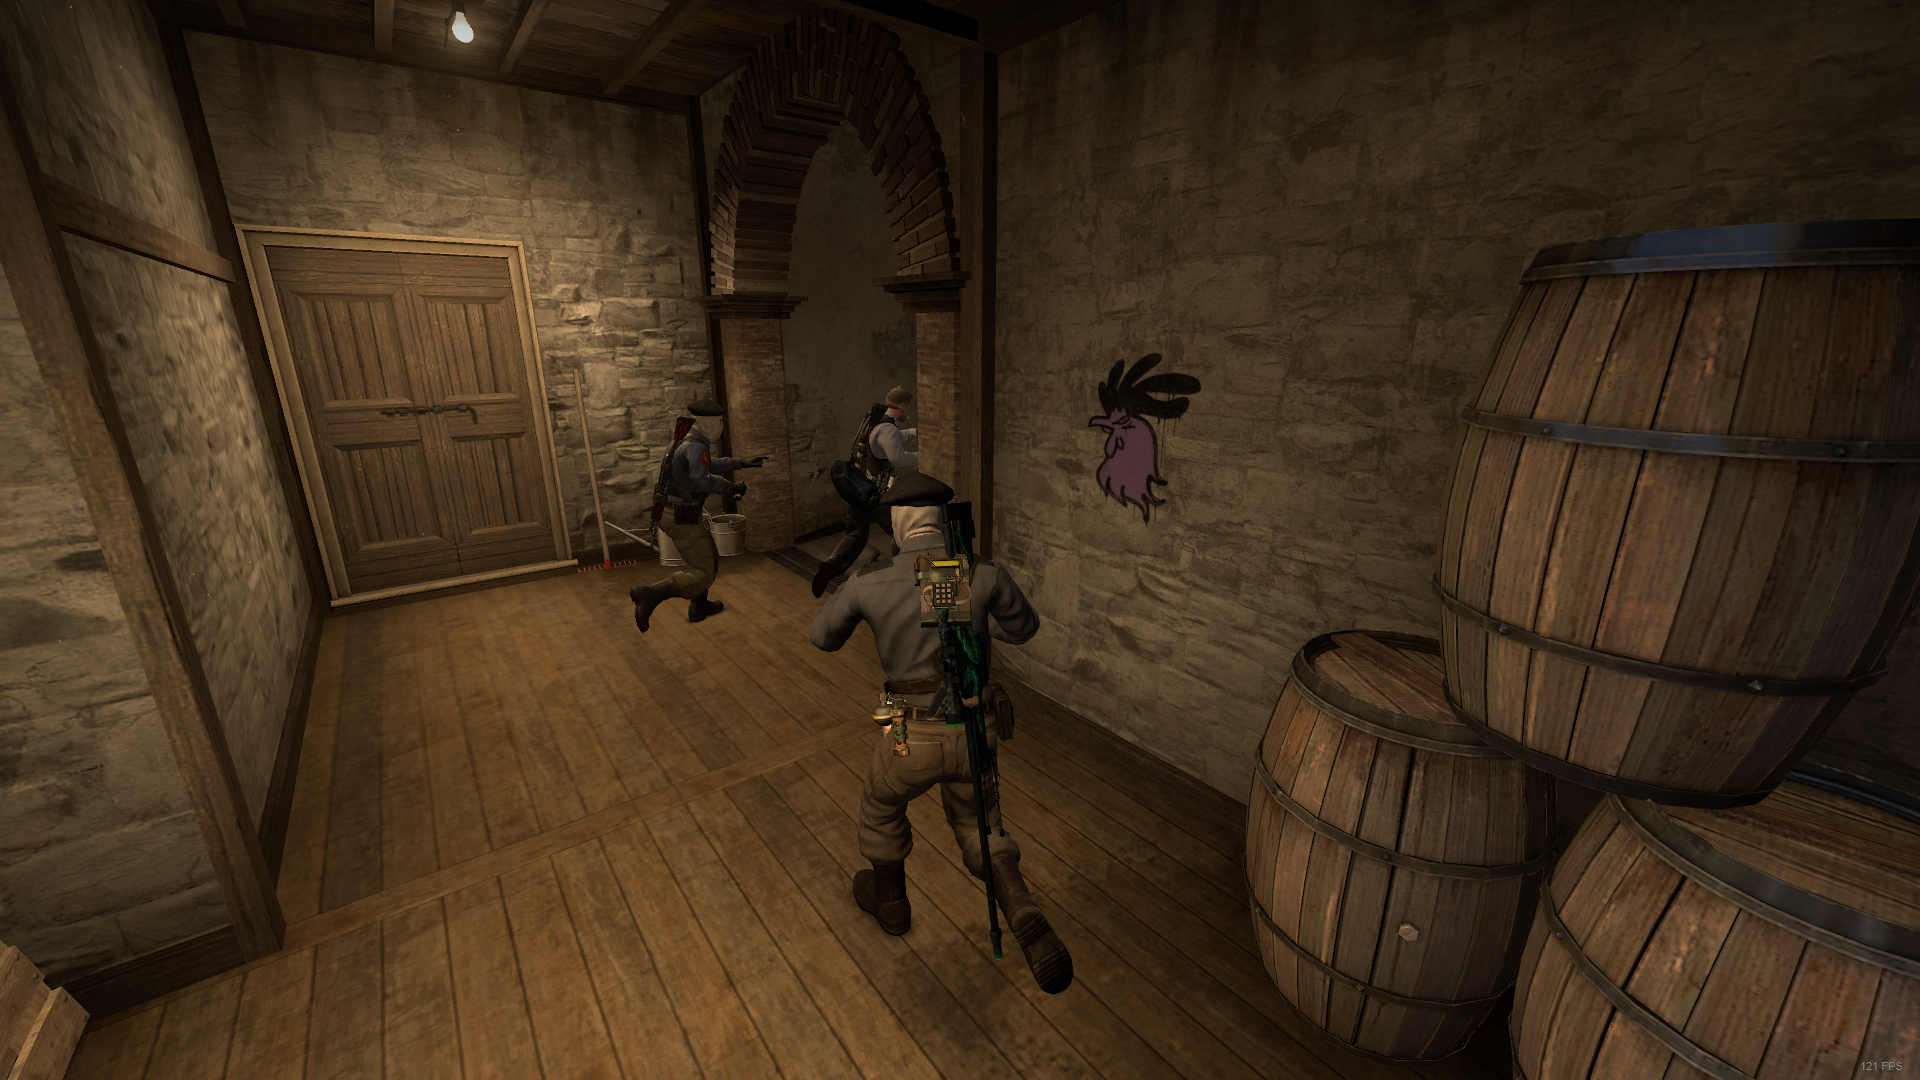t: (808, 469, 1077, 1004), (632, 401, 758, 632)
